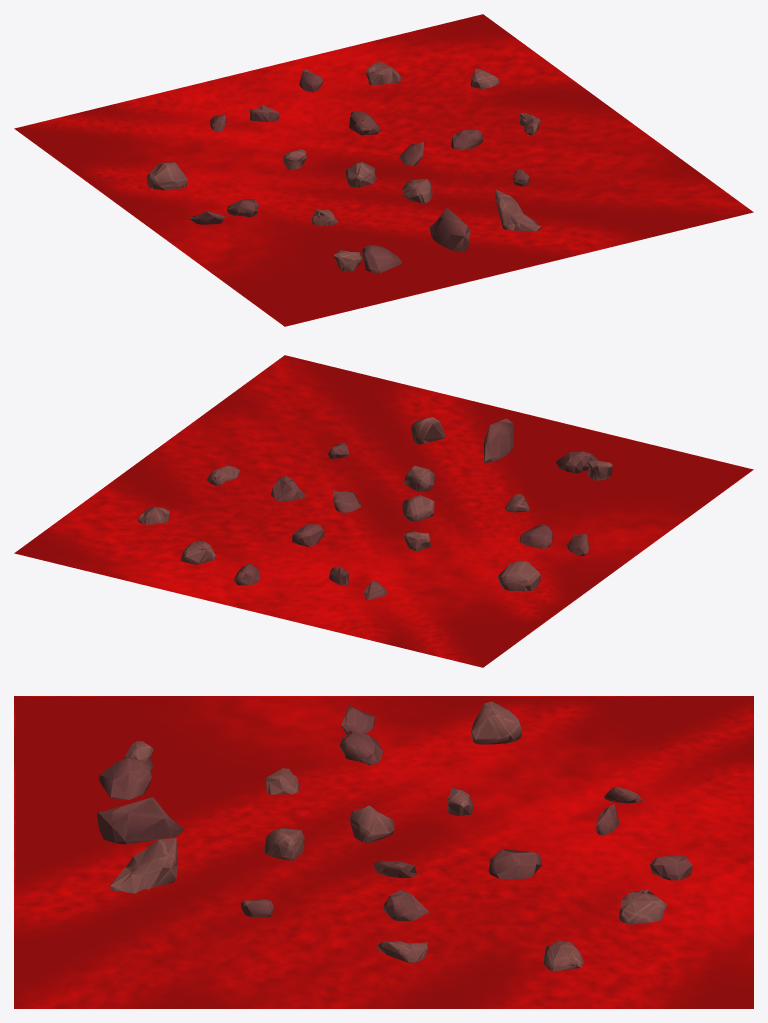
File: SlowField.fbx
3 views of the same model, one above another, from view 1: azimuth 30°, elevation 25°; view 2: azimuth 150°, elevation 25°; view 3: azimuth 270°, elevation 25° (orthographic). The views are drawn at different scales.
Visible parts, largest first — view 1: SlowField; view 2: SlowField; view 3: SlowField.
Part boxes in pixels (x1,y1,x2,y2): SlowField: [14, 14, 753, 326]; SlowField: [14, 355, 753, 667]; SlowField: [14, 696, 753, 1008].
Size of the model in its own units: 2037 by 224 by 2037.
